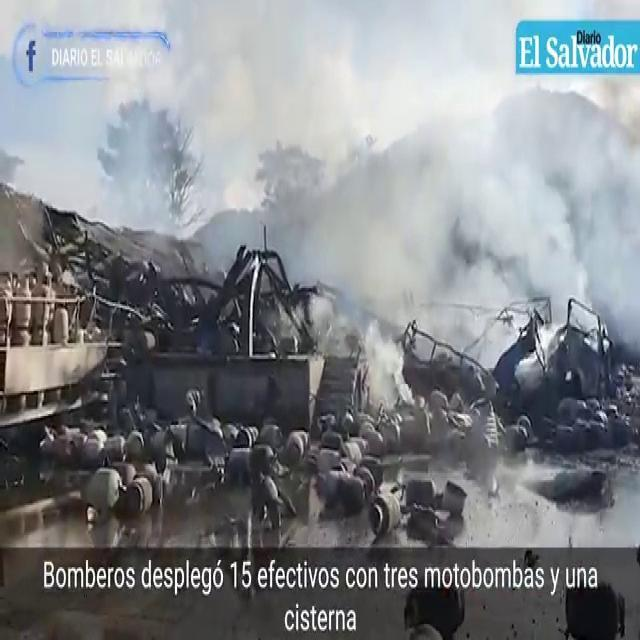Smoke: (261, 30, 631, 377)
